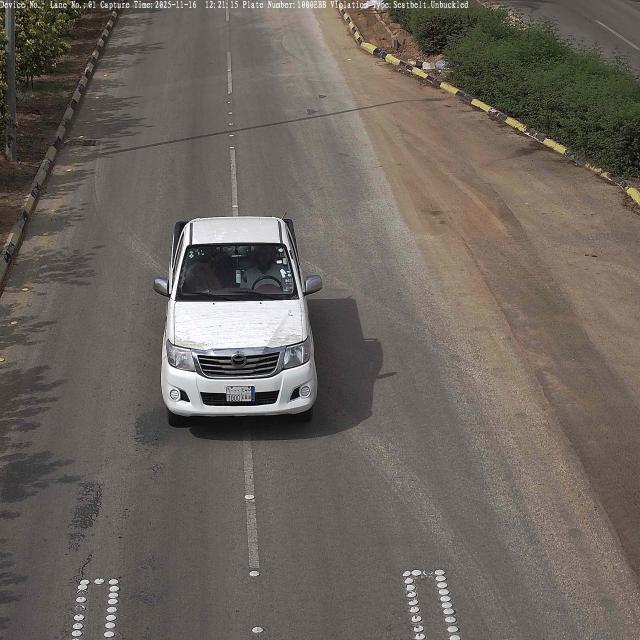person_without_seatbelt: (242, 246, 284, 292)
